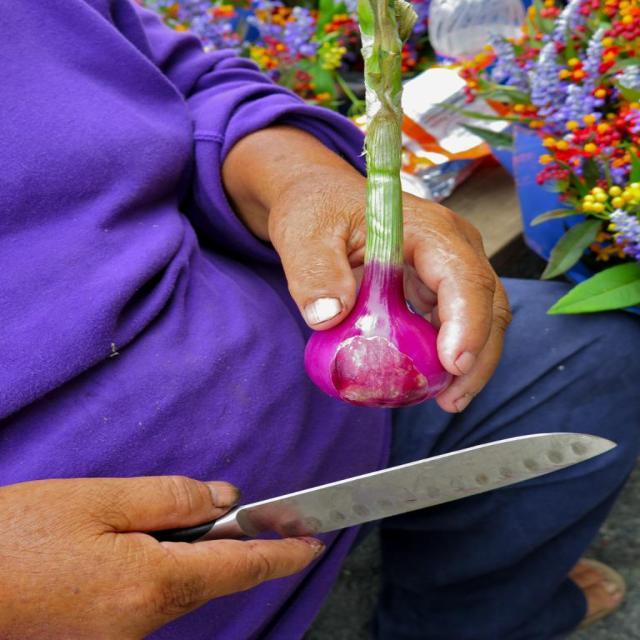Knife: (143, 432, 616, 543)
